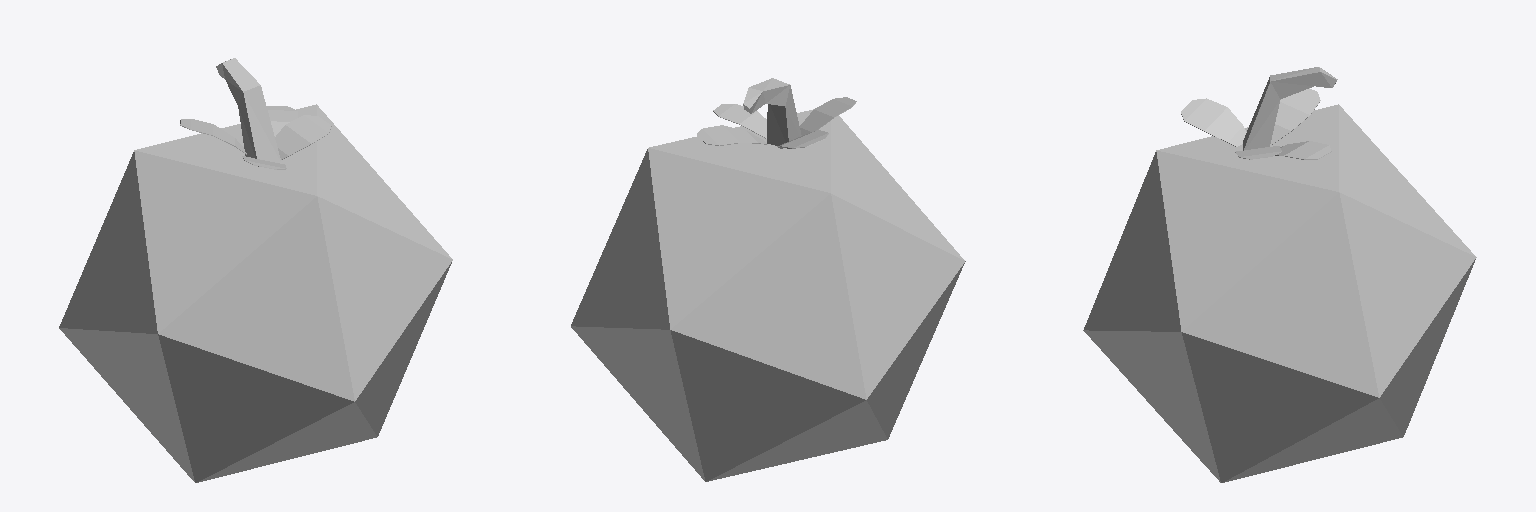
File: pumpkinLow.obj
3 views of the same model, side by side, from view 1: azimuth 30°, elevation 25°; view 2: azimuth 150°, elevation 25°; view 3: azimuth 270°, elevation 25° (orthographic).
Size of the model in its own units: 1.7 by 2.02 by 1.96.